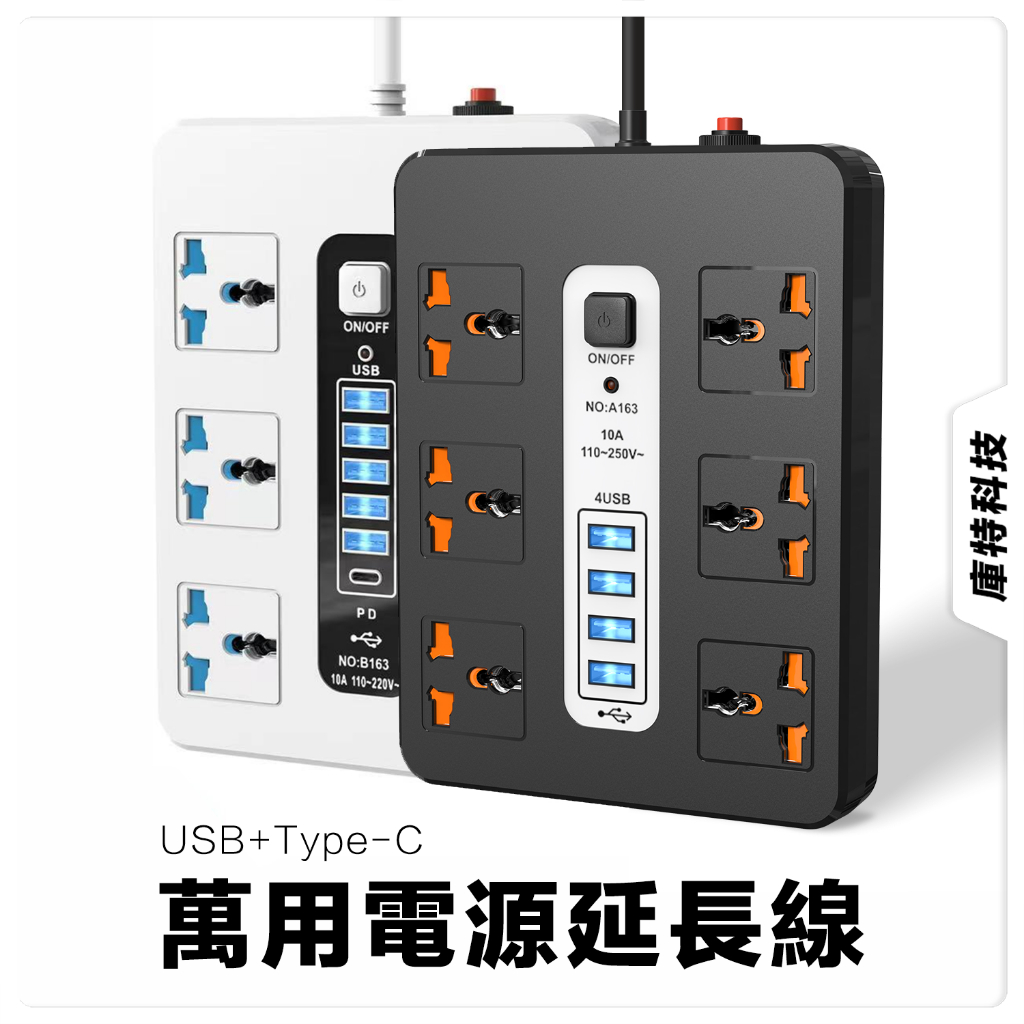socket: (393, 111, 882, 830), (153, 86, 621, 776)
